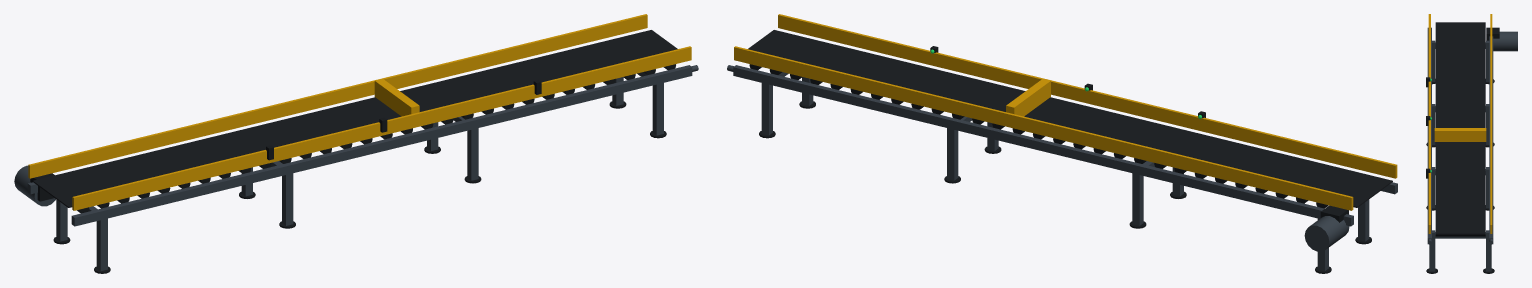
3 views of the same model, side by side, from view 1: azimuth 30°, elevation 25°; view 2: azimuth 150°, elevation 25°; view 3: azimuth 270°, elevation 25° (orthographic). The views are drawn at different scales.
Visible parts, largest first — view 1: guard:rail:-0.37, guard:rail:0.37, frame:rail:0.37, stop:robot-side, leg:-0.9:0.34, leg:0.9:0.34, leg:-2.7:0.34, leg:2.7:0.34, motor:body, belt:segment:0, leg:-2.7:-0.34; view 2: guard:rail:-0.37, guard:rail:0.37, frame:rail:-0.37, motor:body, stop:robot-side, leg:-0.9:-0.34, leg:2.7:-0.34, leg:0.9:-0.34, belt:segment:0, leg:-2.7:0.34; view 3: frame:rail:-0.37, stop:robot-side, guard:rail:-0.37, guard:rail:0.37, frame:rail:0.37, motor:body, belt:segment:47, belt:segment:46, belt:segment:3, belt:segment:1, belt:segment:36, belt:segment:31 (+50 smaller).
Boxes of the visible parts, x1=… form: guard:rail:-0.37: x1=28, y1=14, x2=647, y2=178; guard:rail:0.37: x1=72, y1=46, x2=691, y2=210; frame:rail:0.37: x1=71, y1=65, x2=692, y2=226; stop:robot-side: x1=374, y1=78, x2=419, y2=116; leg:-0.9:0.34: x1=282, y1=173, x2=293, y2=225; leg:0.9:0.34: x1=467, y1=128, x2=478, y2=180; leg:-2.7:0.34: x1=96, y1=218, x2=107, y2=270; leg:2.7:0.34: x1=652, y1=83, x2=663, y2=135; motor:body: x1=14, y1=165, x2=55, y2=206; belt:segment:0: x1=33, y1=177, x2=72, y2=207; leg:-2.7:-0.34: x1=56, y1=199, x2=67, y2=241; guard:rail:-0.37: x1=734, y1=46, x2=1353, y2=210; guard:rail:0.37: x1=778, y1=14, x2=1397, y2=178; frame:rail:-0.37: x1=733, y1=65, x2=1353, y2=226; motor:body: x1=1304, y1=216, x2=1349, y2=251; stop:robot-side: x1=1006, y1=79, x2=1050, y2=116; leg:-0.9:-0.34: x1=1132, y1=173, x2=1143, y2=225; leg:2.7:-0.34: x1=761, y1=83, x2=772, y2=135; leg:0.9:-0.34: x1=947, y1=128, x2=958, y2=180; belt:segment:0: x1=1353, y1=177, x2=1392, y2=207; leg:-2.7:0.34: x1=1358, y1=199, x2=1369, y2=241; frame:rail:-0.37: x1=1489, y1=36, x2=1493, y2=244; stop:robot-side: x1=1434, y1=128, x2=1486, y2=141; guard:rail:-0.37: x1=1490, y1=14, x2=1492, y2=233; guard:rail:0.37: x1=1428, y1=14, x2=1430, y2=233; frame:rail:0.37: x1=1427, y1=27, x2=1431, y2=244; motor:body: x1=1493, y1=31, x2=1517, y2=51; belt:segment:47: x1=1435, y1=229, x2=1485, y2=234; belt:segment:46: x1=1435, y1=224, x2=1485, y2=229; belt:segment:3: x1=1435, y1=35, x2=1485, y2=40; belt:segment:1: x1=1435, y1=26, x2=1485, y2=31; belt:segment:36: x1=1435, y1=180, x2=1485, y2=185; belt:segment:31: x1=1435, y1=158, x2=1485, y2=163.
Size of the model in its own units: 6.06 by 0.795 by 1.11.
